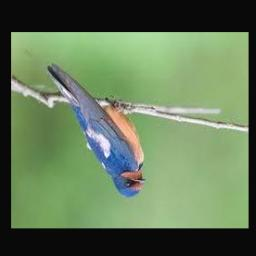Swallow: (46, 64, 147, 196)
